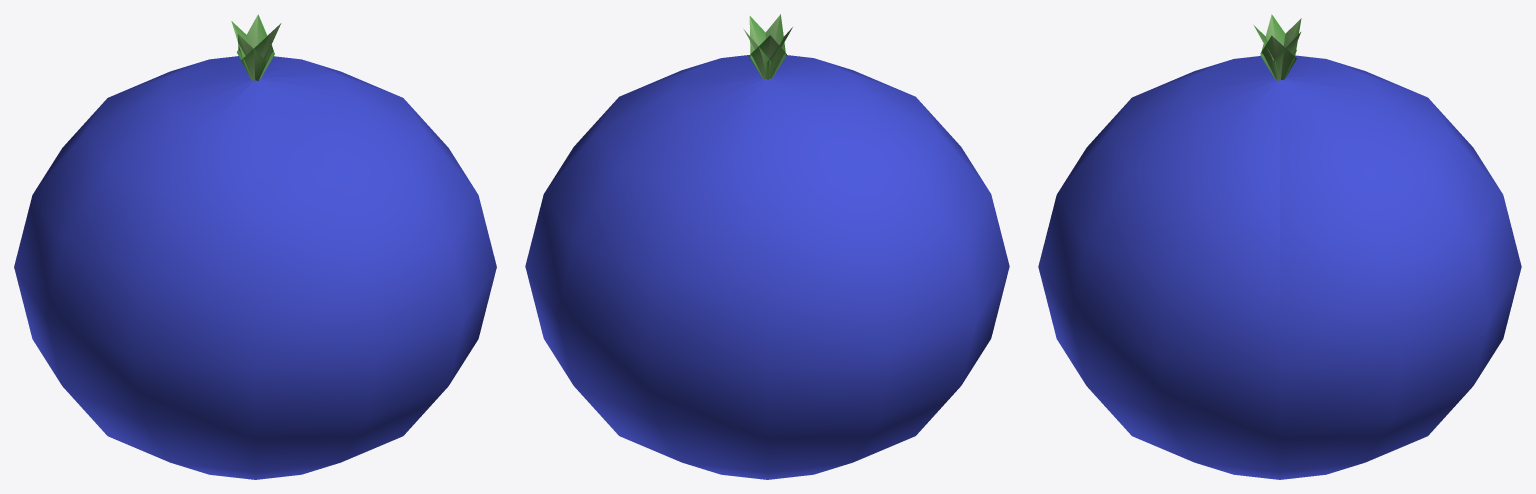
The model's file is fruit-blueberry-gold.glb.
3 renders of one model, left to right at view 1: azimuth 30°, elevation 25°; view 2: azimuth 150°, elevation 25°; view 3: azimuth 270°, elevation 25°, orthographic.
Visible parts, largest first — view 1: fruit-blueberry; view 2: fruit-blueberry; view 3: fruit-blueberry.
Boxes of the visible parts, x1=… form: fruit-blueberry: x1=14, y1=14, x2=496, y2=479; fruit-blueberry: x1=525, y1=14, x2=1009, y2=479; fruit-blueberry: x1=1038, y1=14, x2=1521, y2=479.
Bounding box in the file's own units: 0.24 × 0.2359 × 0.24.
